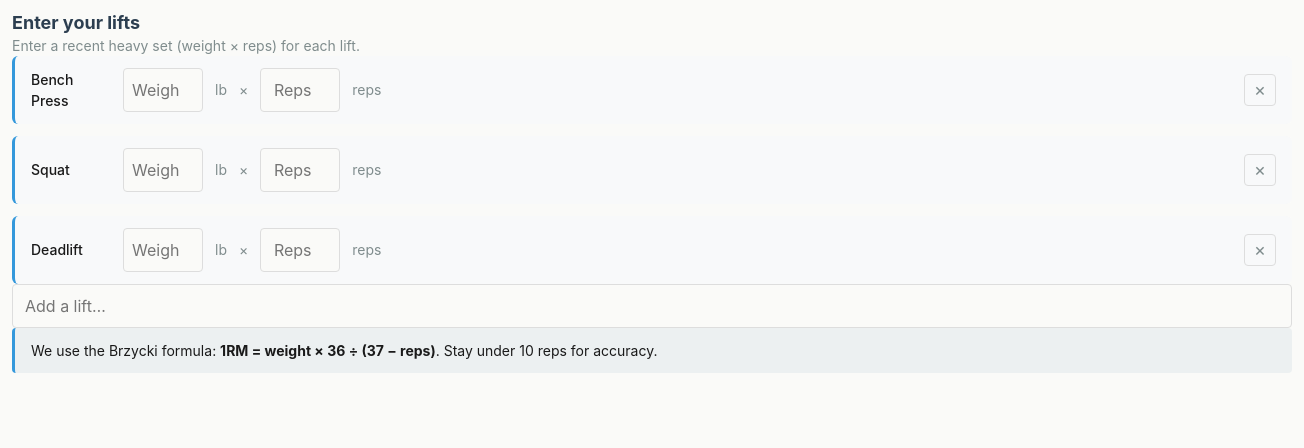
Test: StepLifts — add a lift › does not offer custom-add when the query partially matches a catalog lift
Type "overhead" into the dropdown labelled "Add a lift" at (652, 306), box [12, 284, 1292, 328]
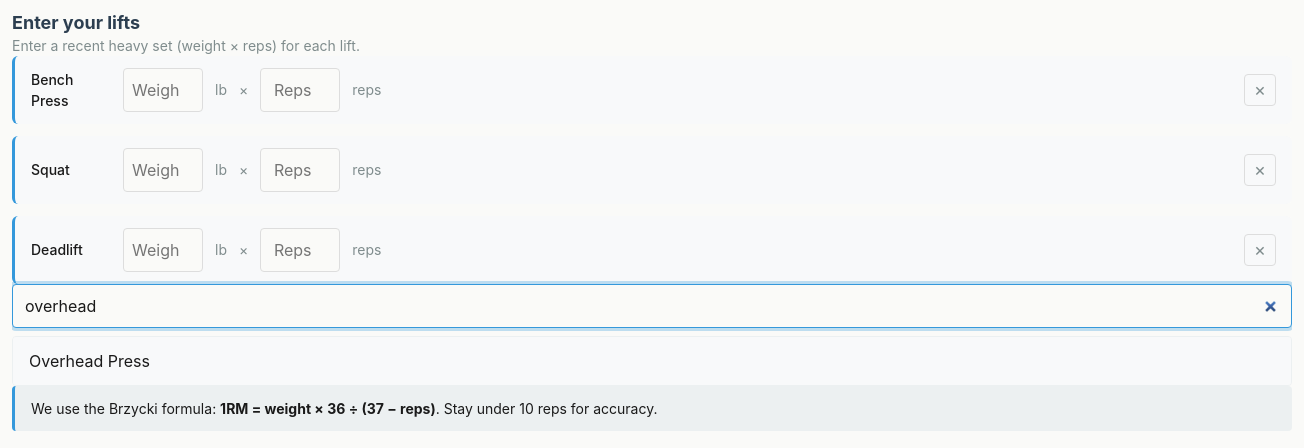
Expected: the option "Overhead Press" is shown, [13, 336, 1291, 384]
